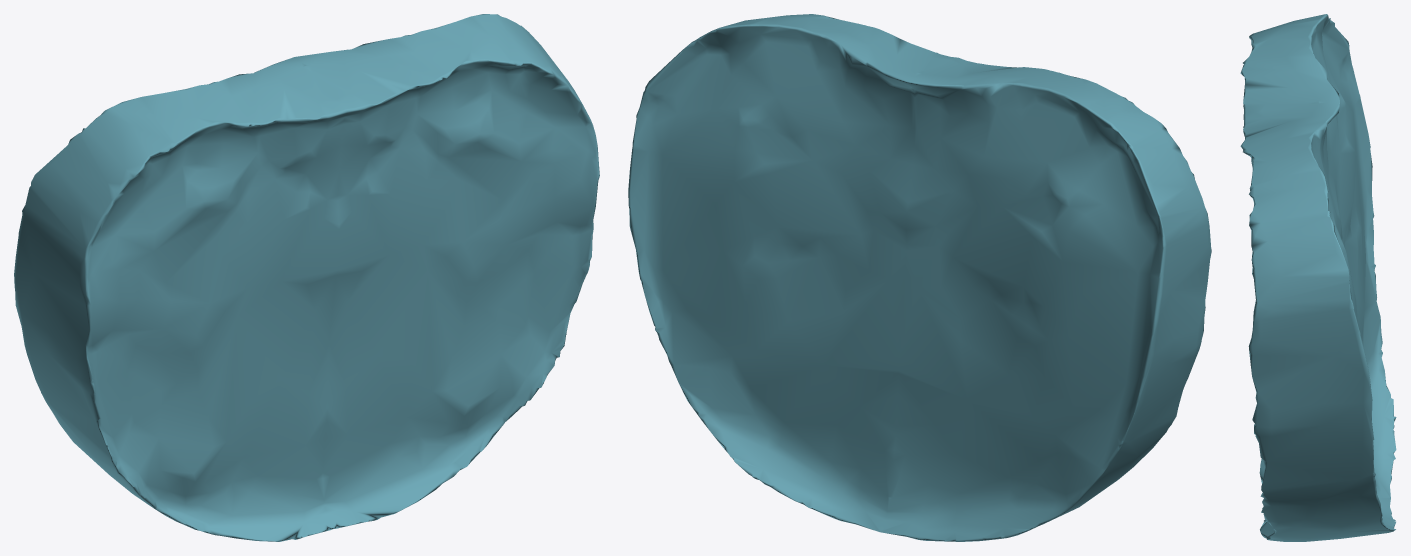
3 renders of one model, left to right at view 1: azimuth 30°, elevation 25°; view 2: azimuth 150°, elevation 25°; view 3: azimuth 270°, elevation 25°, orthographic. The views are drawn at different scales.
Parts seen in each view (by area): view 1: 腰3—腰4椎间盘; view 2: 腰3—腰4椎间盘; view 3: 腰3—腰4椎间盘.
Boxes of the visible parts, x1,y1,x2,y2 form: 腰3—腰4椎间盘: [14, 14, 599, 541]; 腰3—腰4椎间盘: [628, 14, 1211, 541]; 腰3—腰4椎间盘: [1240, 14, 1396, 541].
Size of the model in its own units: 0.068 by 0.0554 by 0.0188.
